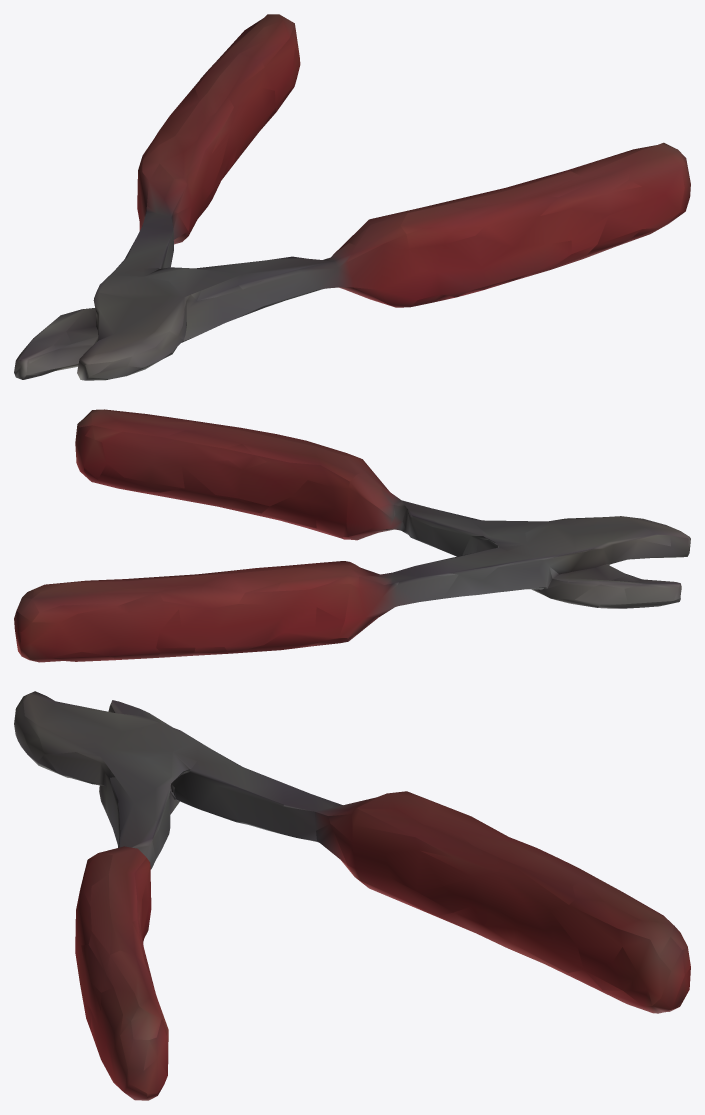
File: 0004_mask_005_pliers.glb
The picture shows the model from 3 angles, top to bottom: view 1: azimuth 30°, elevation 25°; view 2: azimuth 150°, elevation 25°; view 3: azimuth 270°, elevation 25°; orthographic projection. The views are drawn at different scales.
Parts seen in each view (by area): view 1: mask_005_object; view 2: mask_005_object; view 3: mask_005_object.
Boxes of the visible parts, left/top/right/bottom form: mask_005_object: left=14, top=14, right=690, bottom=380; mask_005_object: left=14, top=409, right=690, bottom=662; mask_005_object: left=14, top=691, right=690, bottom=1100.
Bounding box in the file's own units: 0.1357 × 0.0175 × 0.1027.
